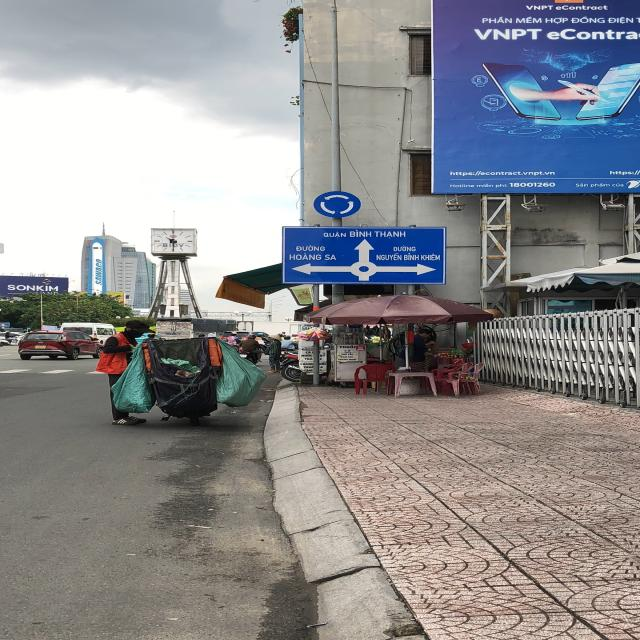Bien bao noi giao nhau chay theo vong xuyen: (309, 188, 367, 218)
